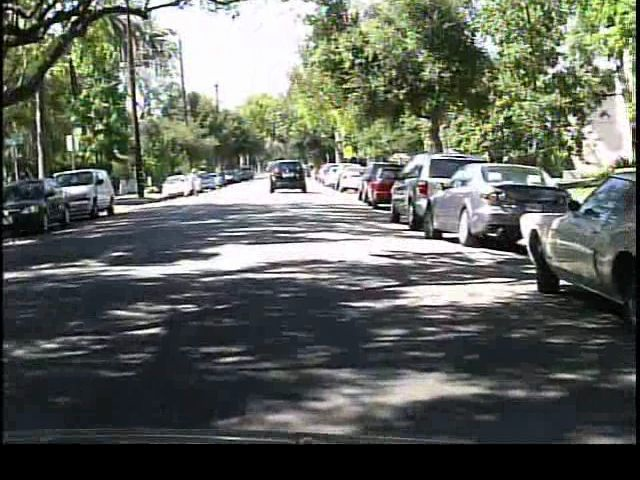person: (183, 164, 202, 201)
